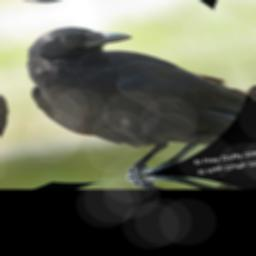Crow: (7, 5, 256, 187)
